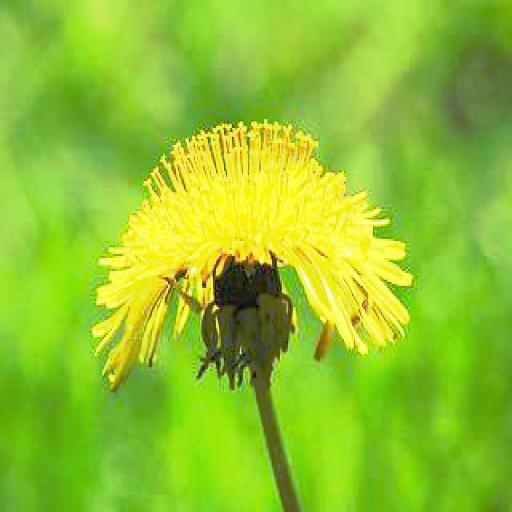dandelion: (93, 126, 408, 384)
